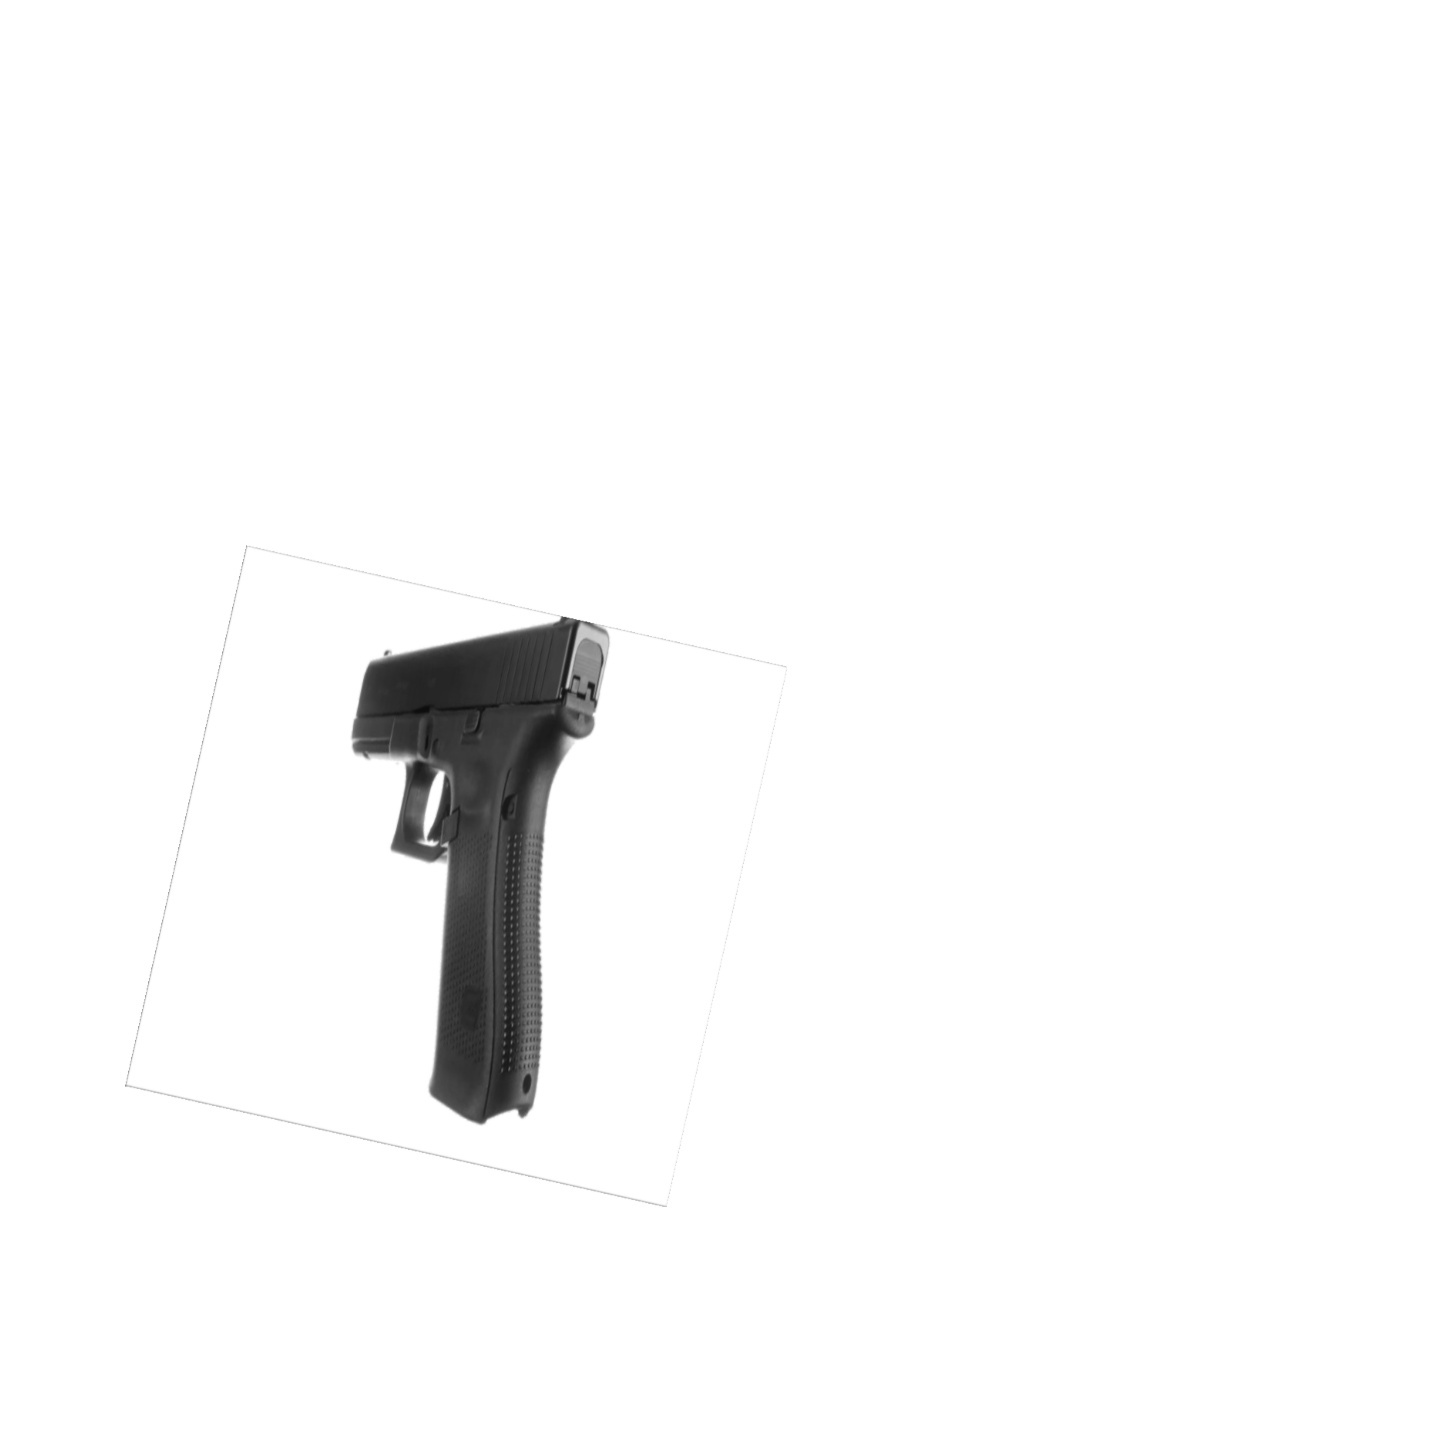gun: (353, 616, 611, 1125)
